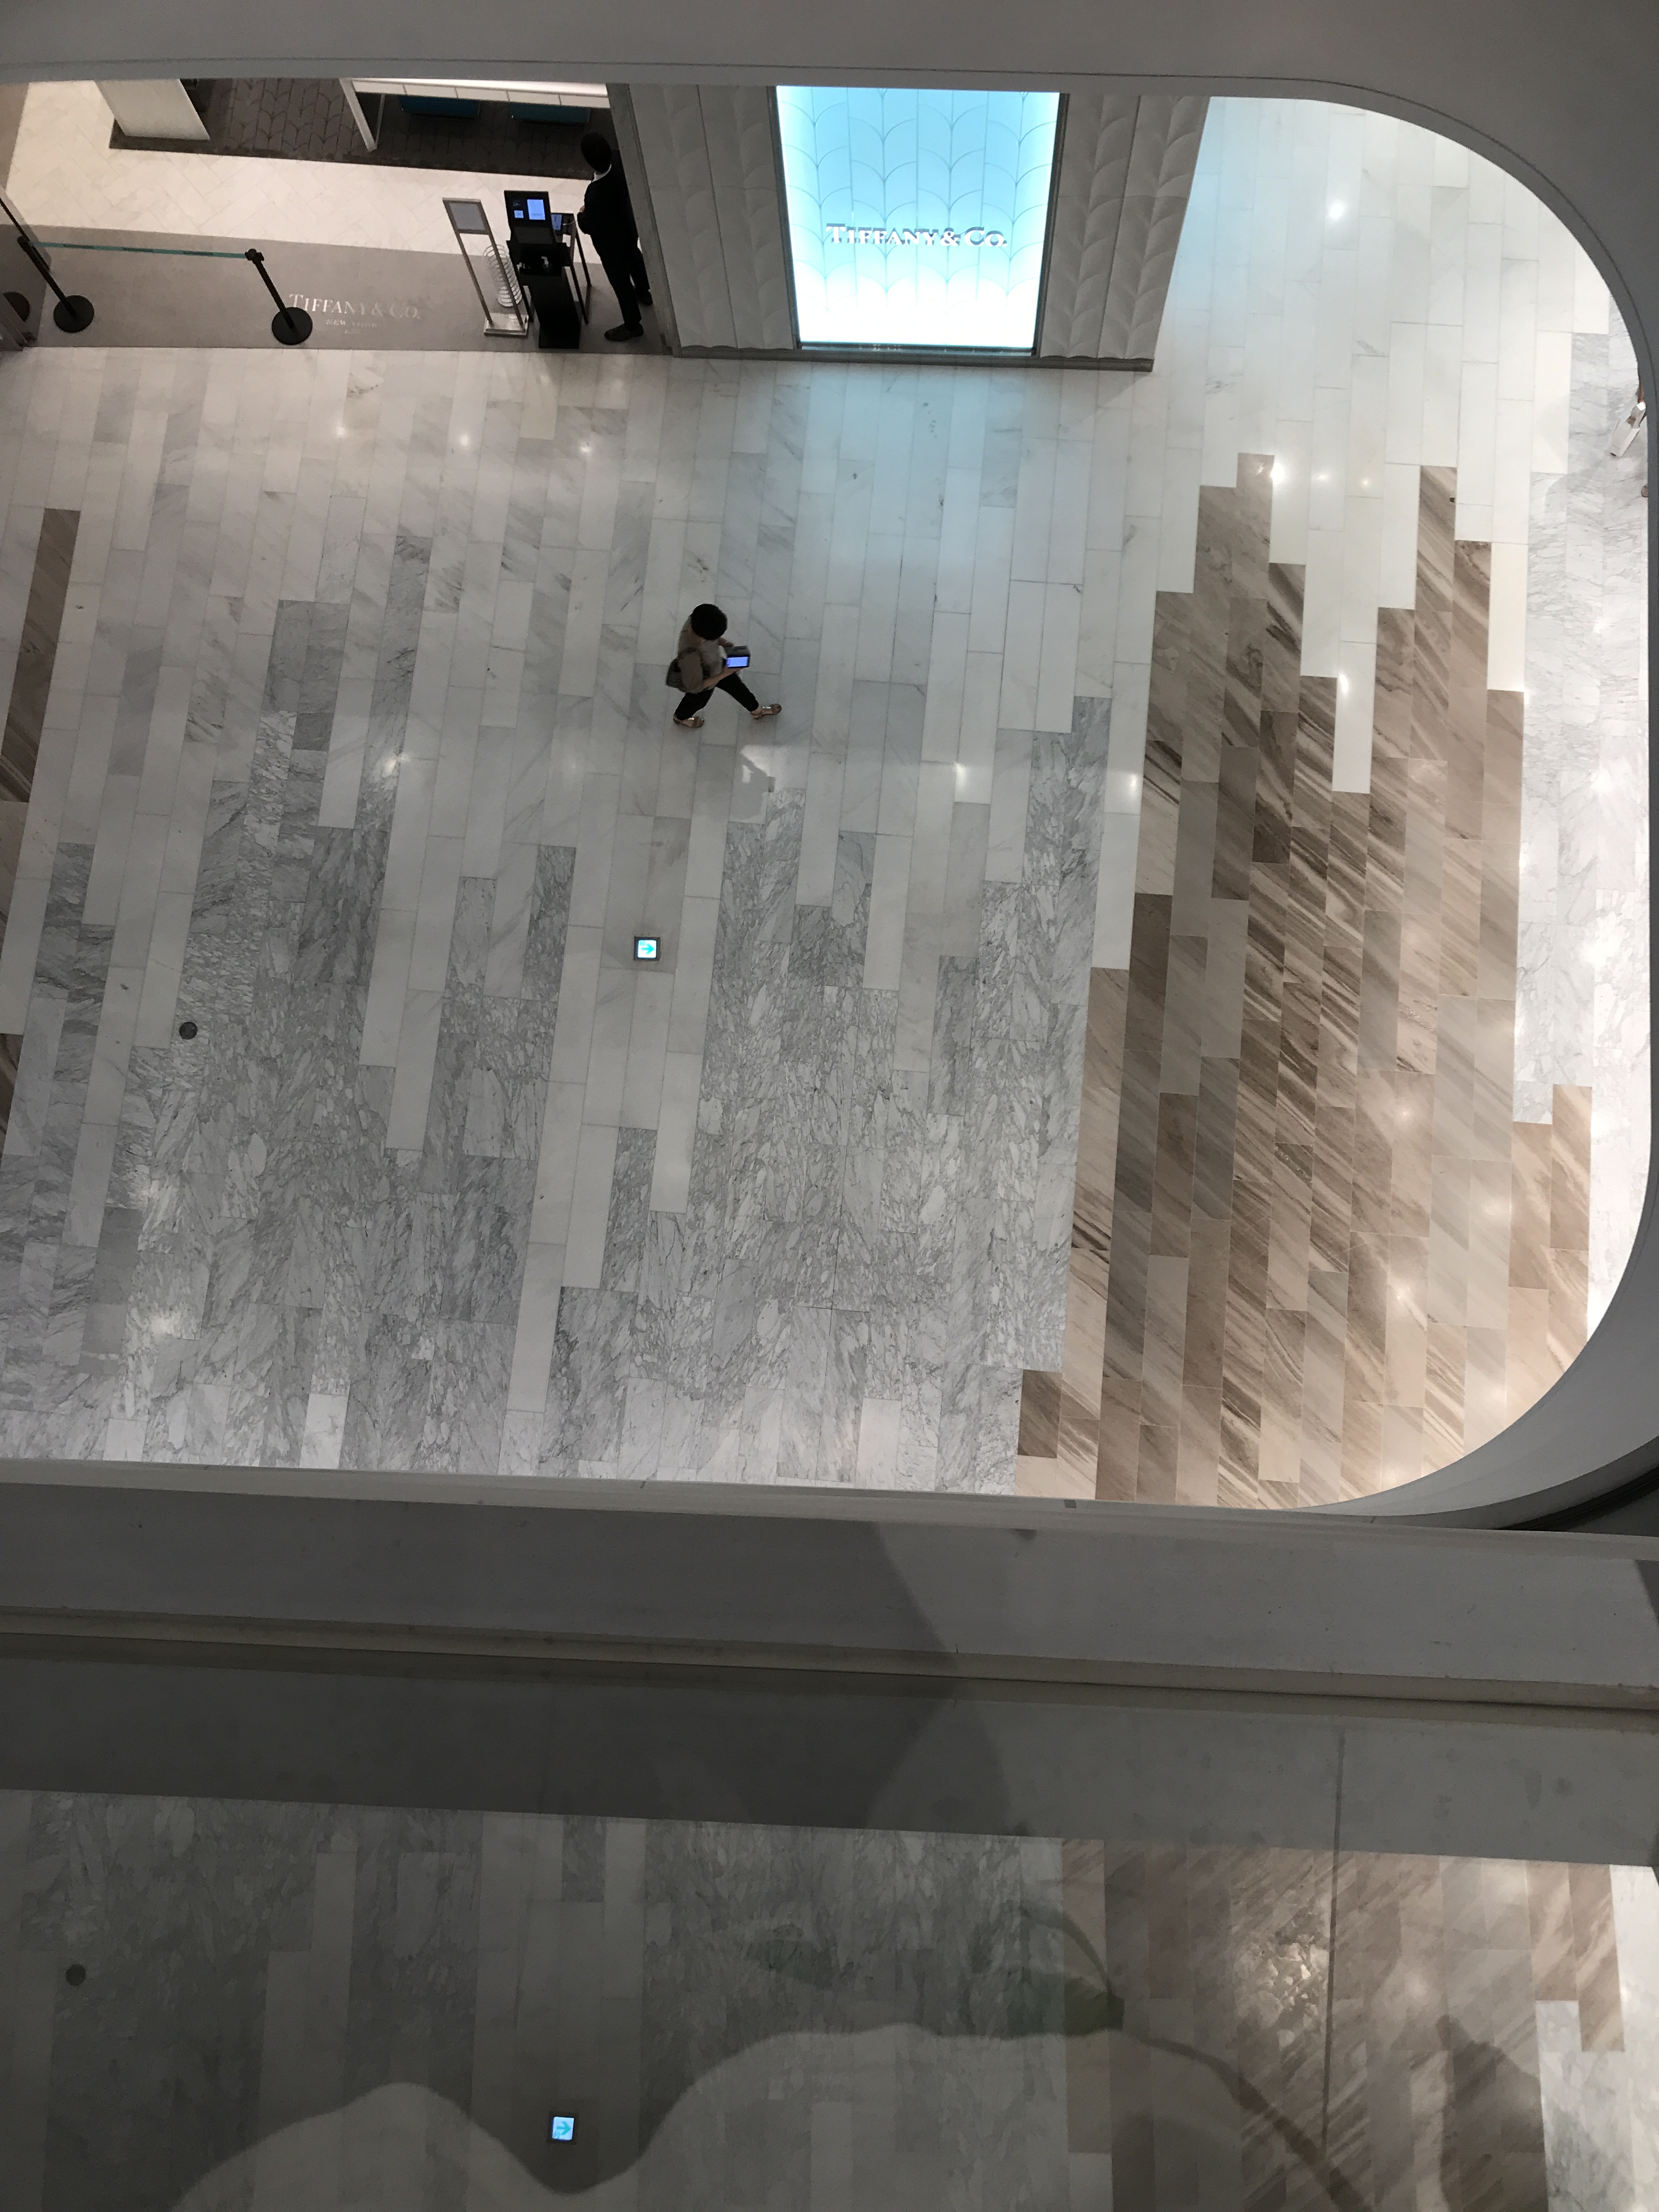person: (661, 596, 785, 742), (573, 145, 656, 346)
